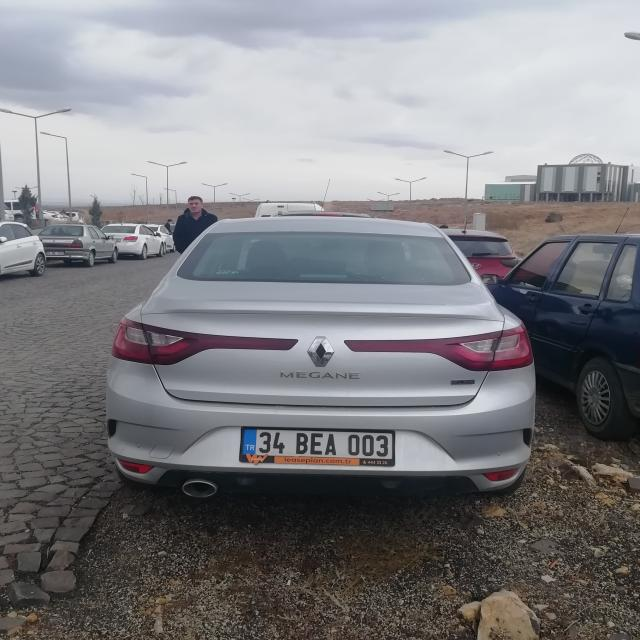license_plate: (240, 428, 395, 456)
